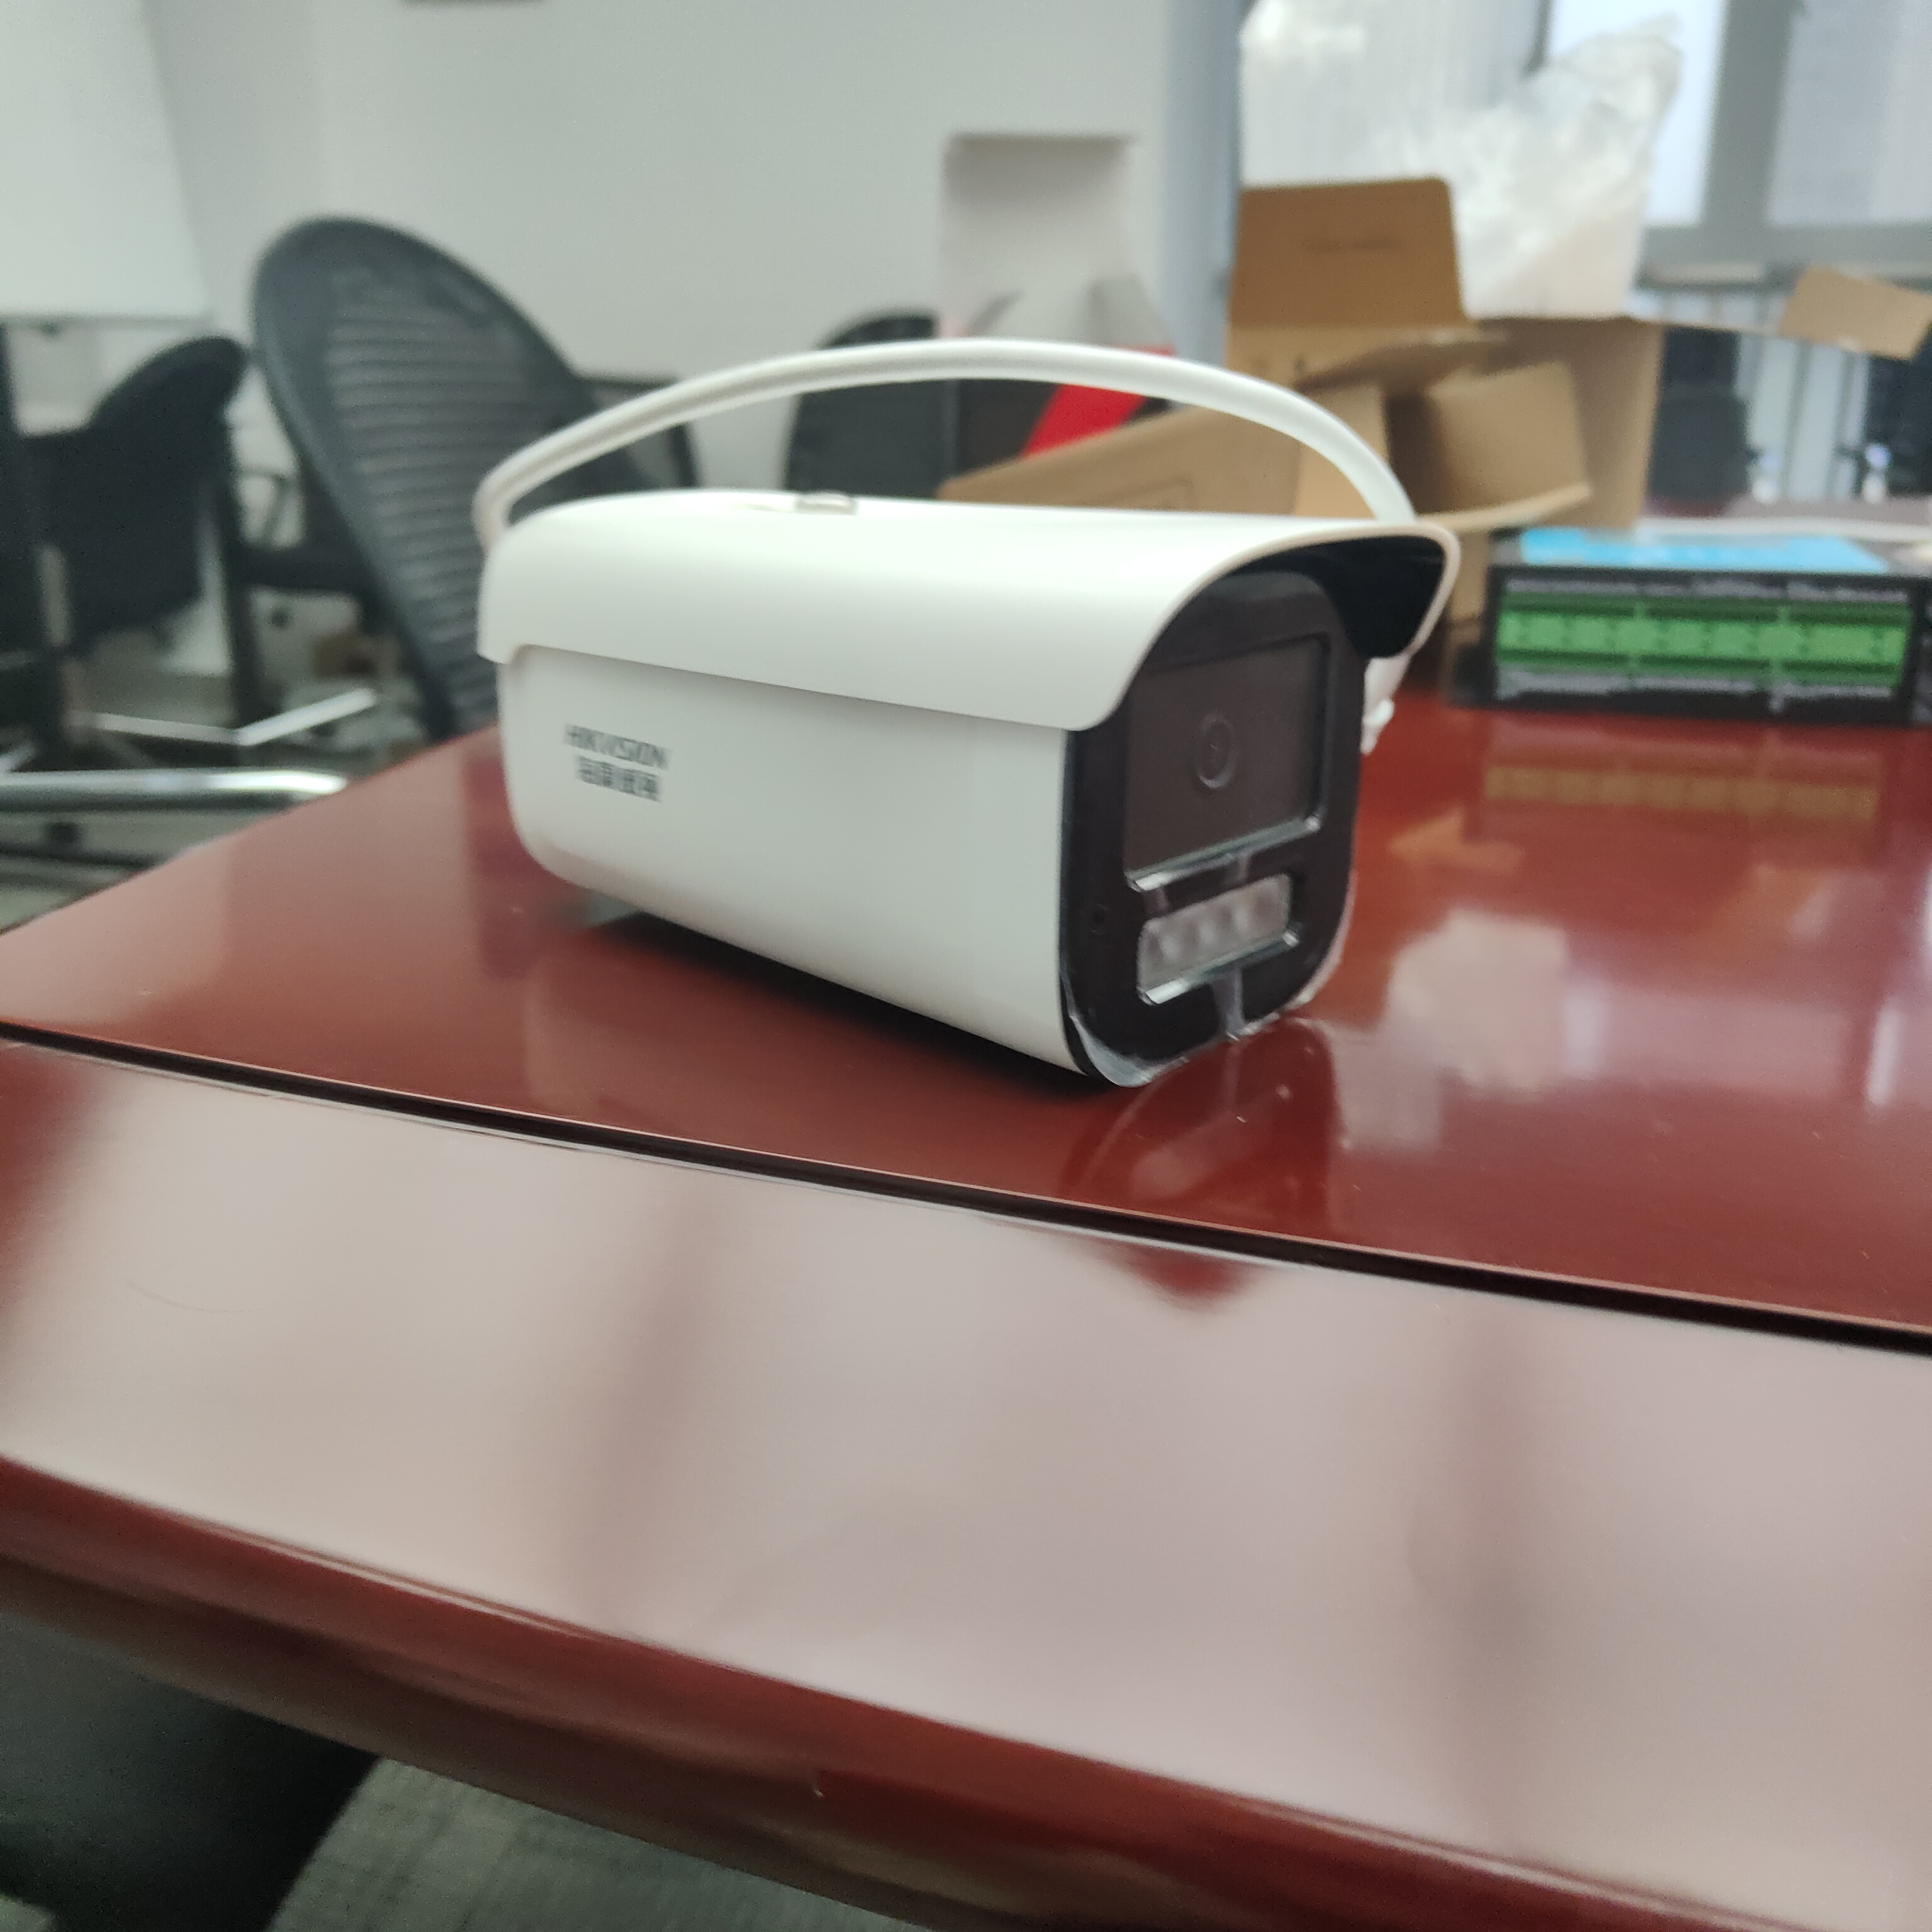hkws: (414, 368, 1438, 1100)
slyczd: (1467, 501, 1914, 743)
